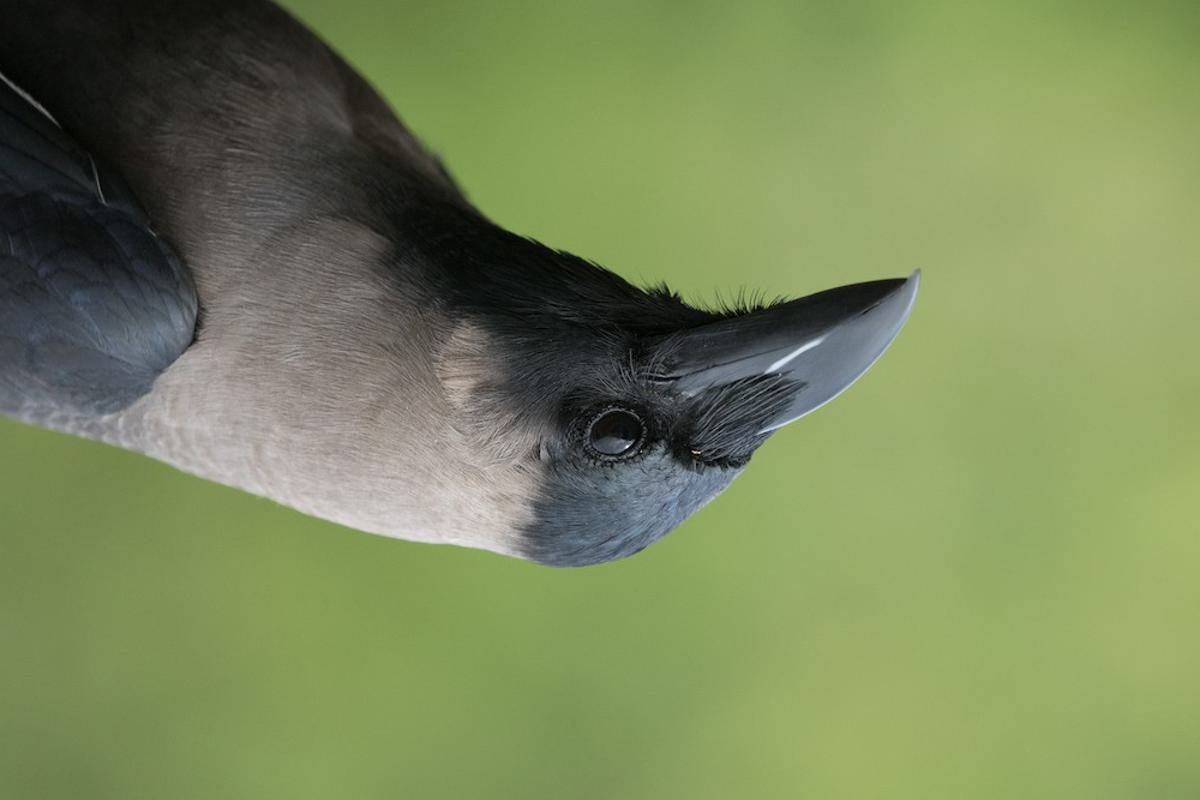crow: (1, 1, 925, 584)
